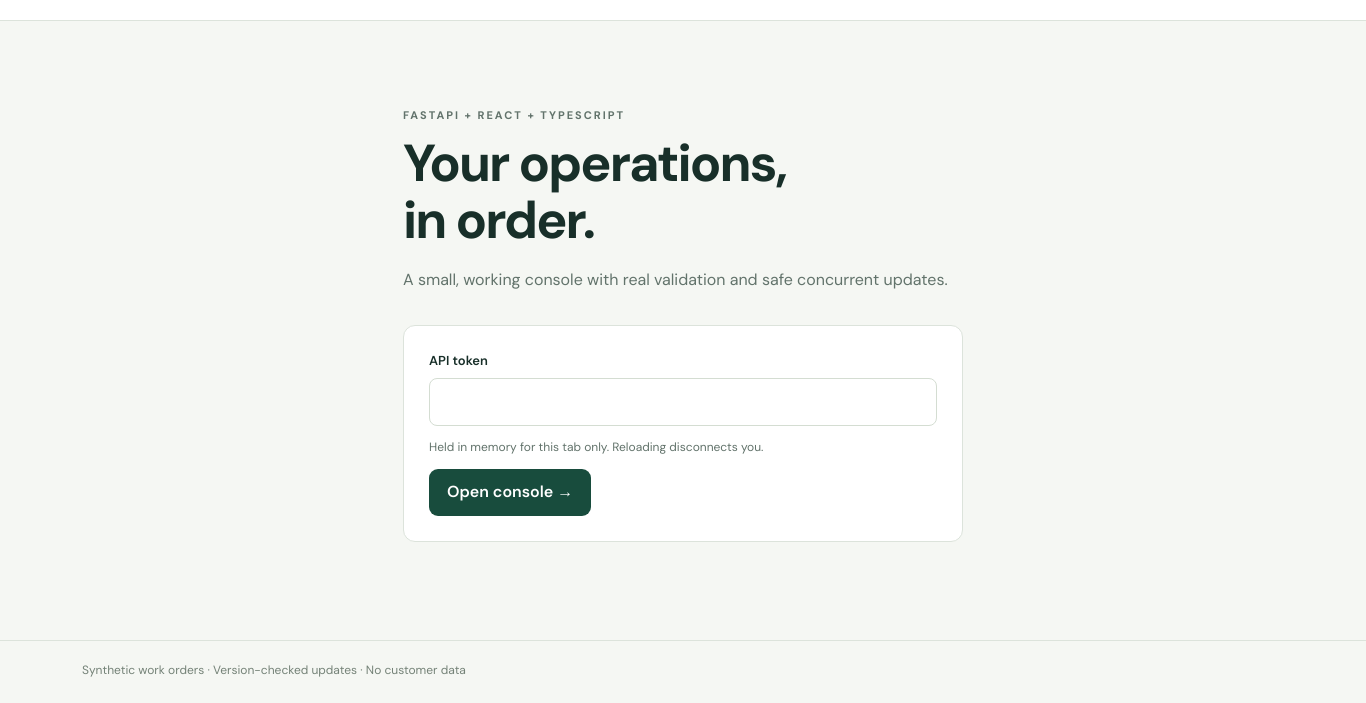
409 requires reload and sends the new version only after another explicit save
Step 1. Type "test-only-token" into the password field labelled "API token" → (683, 402), box [429,378,937,426]
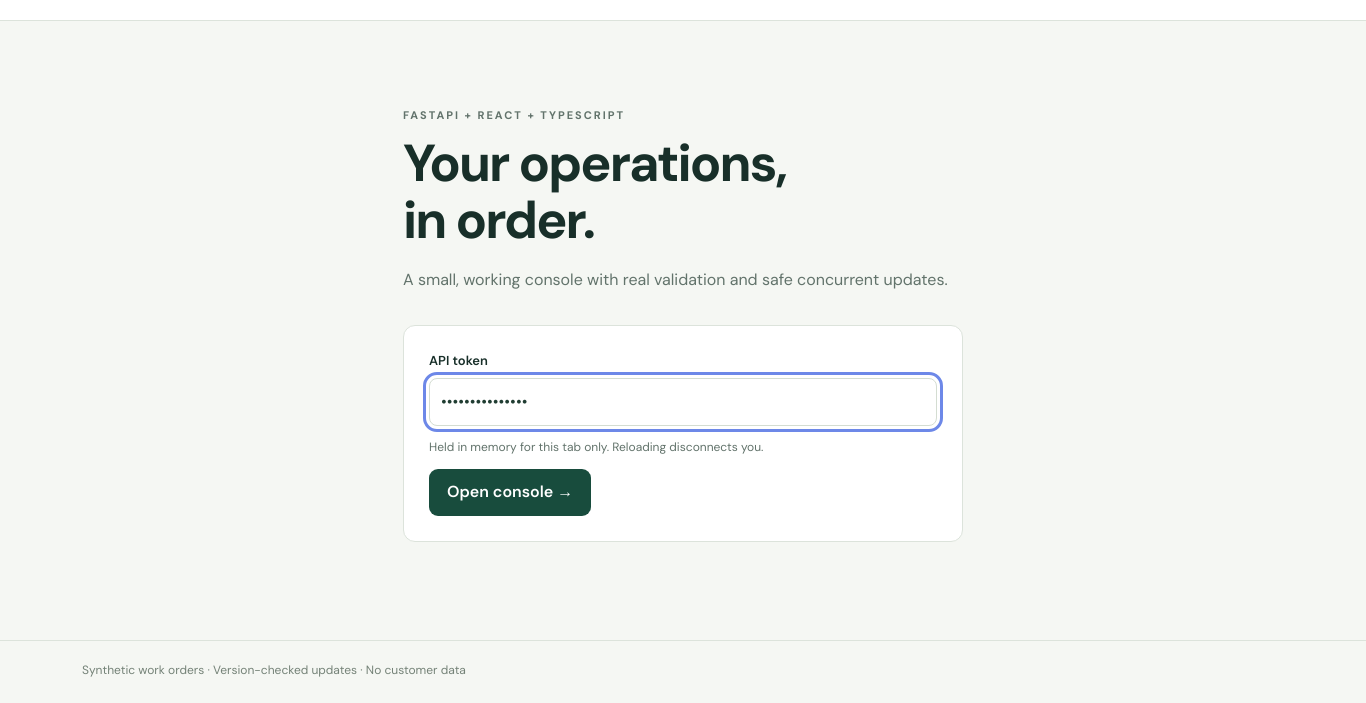
Step 2. Click the button "Open console →" → (510, 492), box [429,469,591,516]
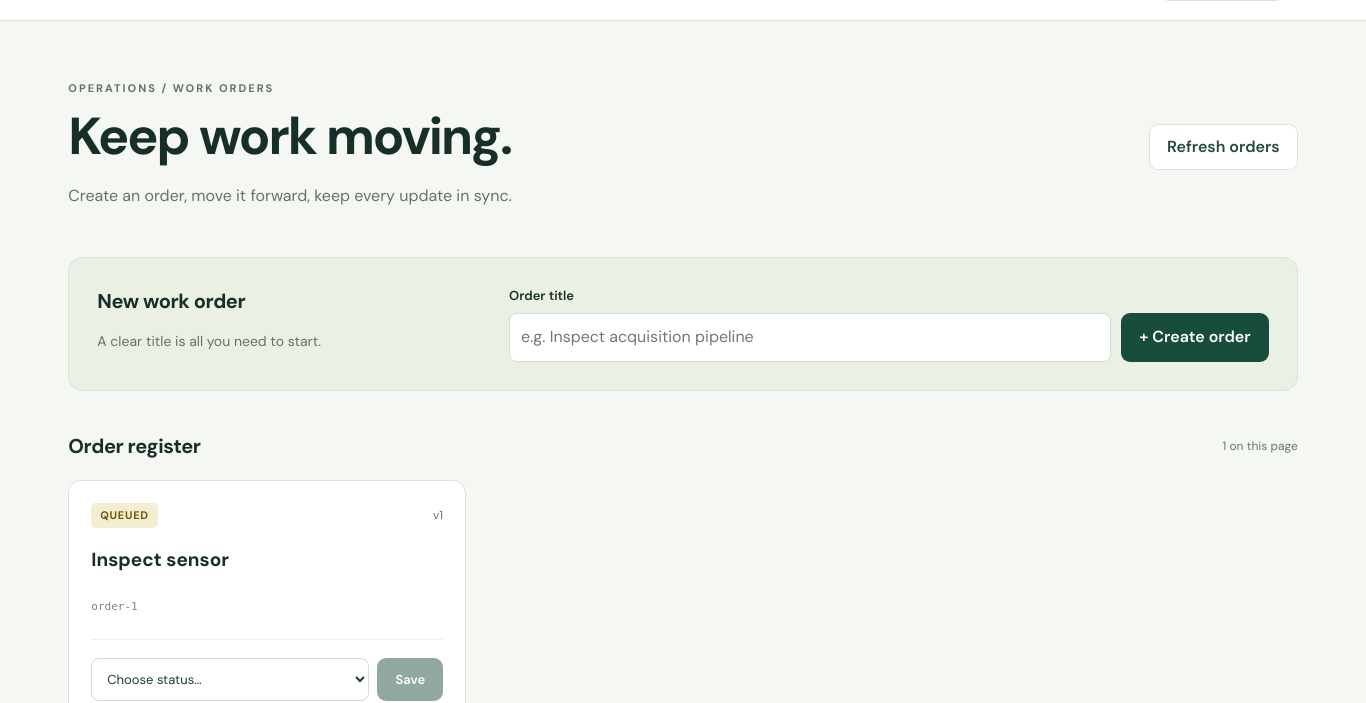
Now the heading "Order register" is shown, box [68,431,201,462]
Step 3. Select "cancelled" in the dropdown named "Next status for Inspect sensor" → (230, 680), box [91,658,370,701]
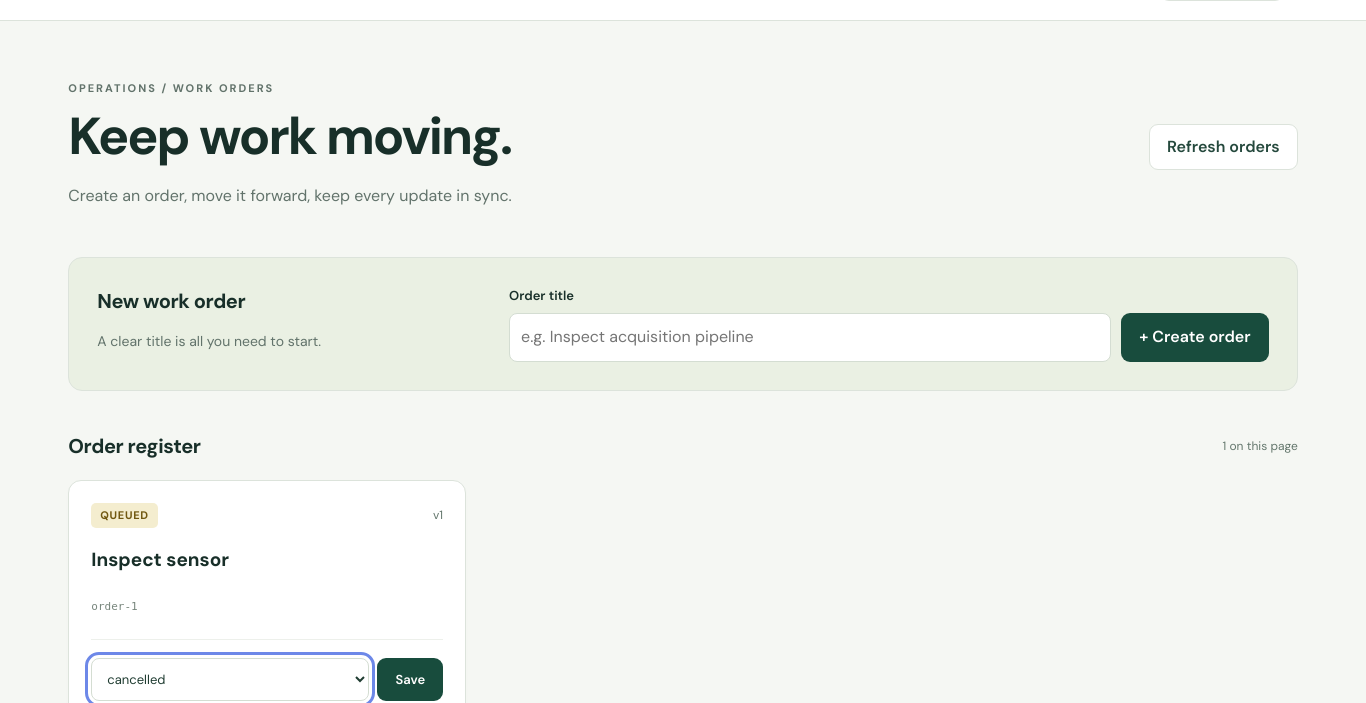
Step 4. Click the button "Save" → (410, 680), box [378,658,443,701]
(page scrolled)
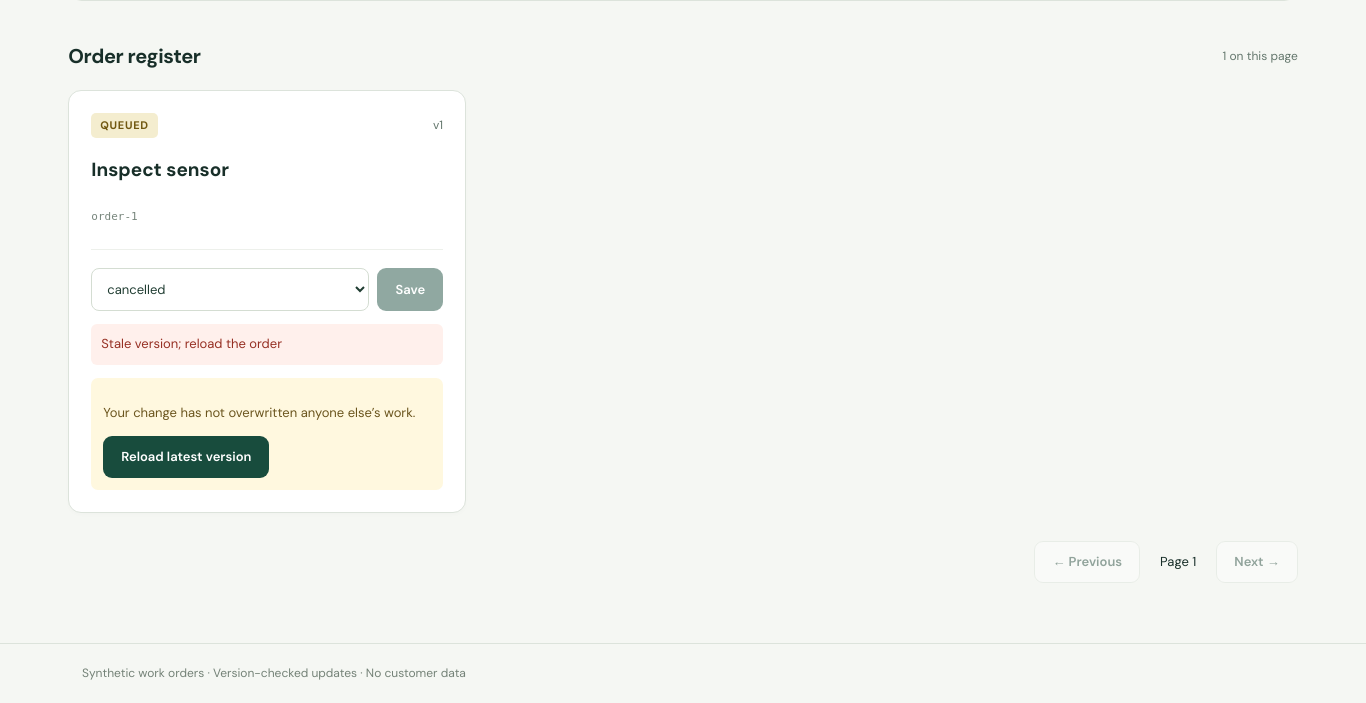
Now the button "Reload latest version" is shown
Now the button "Save" is disabled, box [378,268,443,311]
Step 5. Click the button "Reload latest version" → (186, 457), box [103,436,270,478]
(page scrolled)
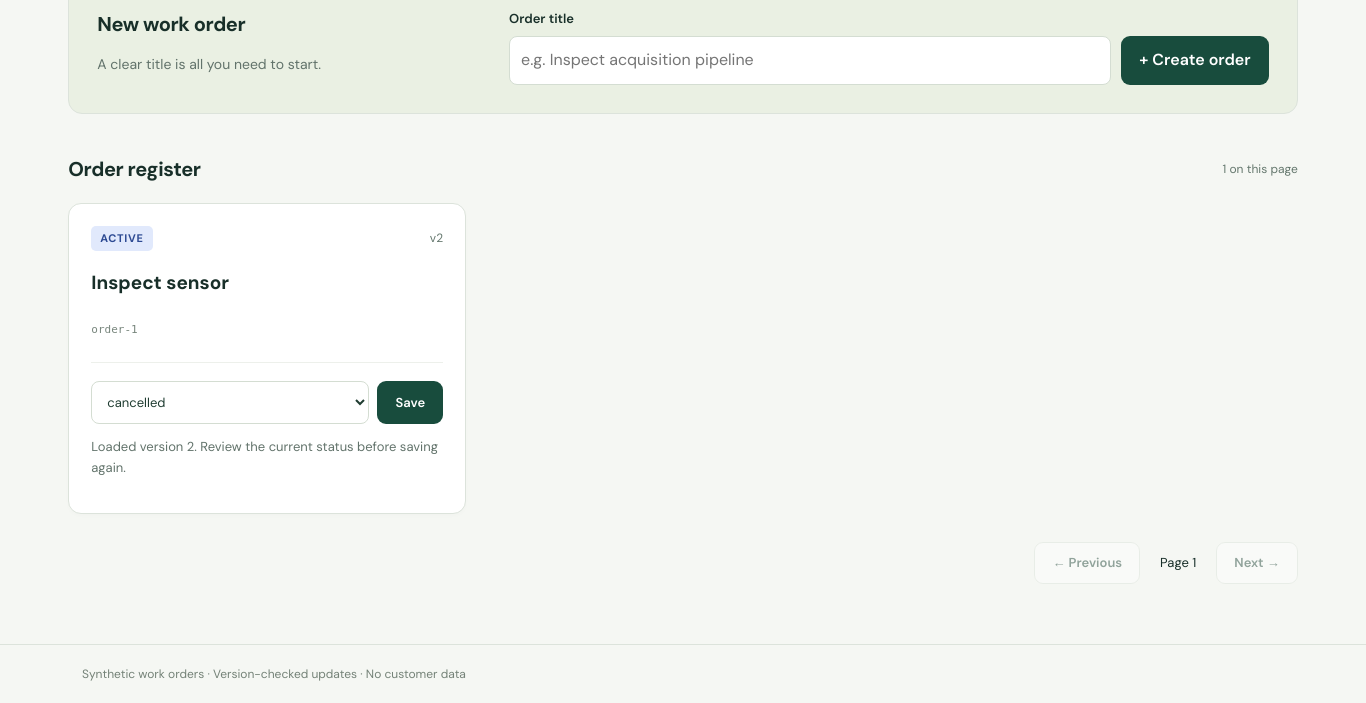
Now the text "Loaded version 2. Review the current status before saving again." is shown, box [91,437,443,478]
Step 6. Click the button "Save" → (410, 403), box [378,381,443,424]
(page scrolled)
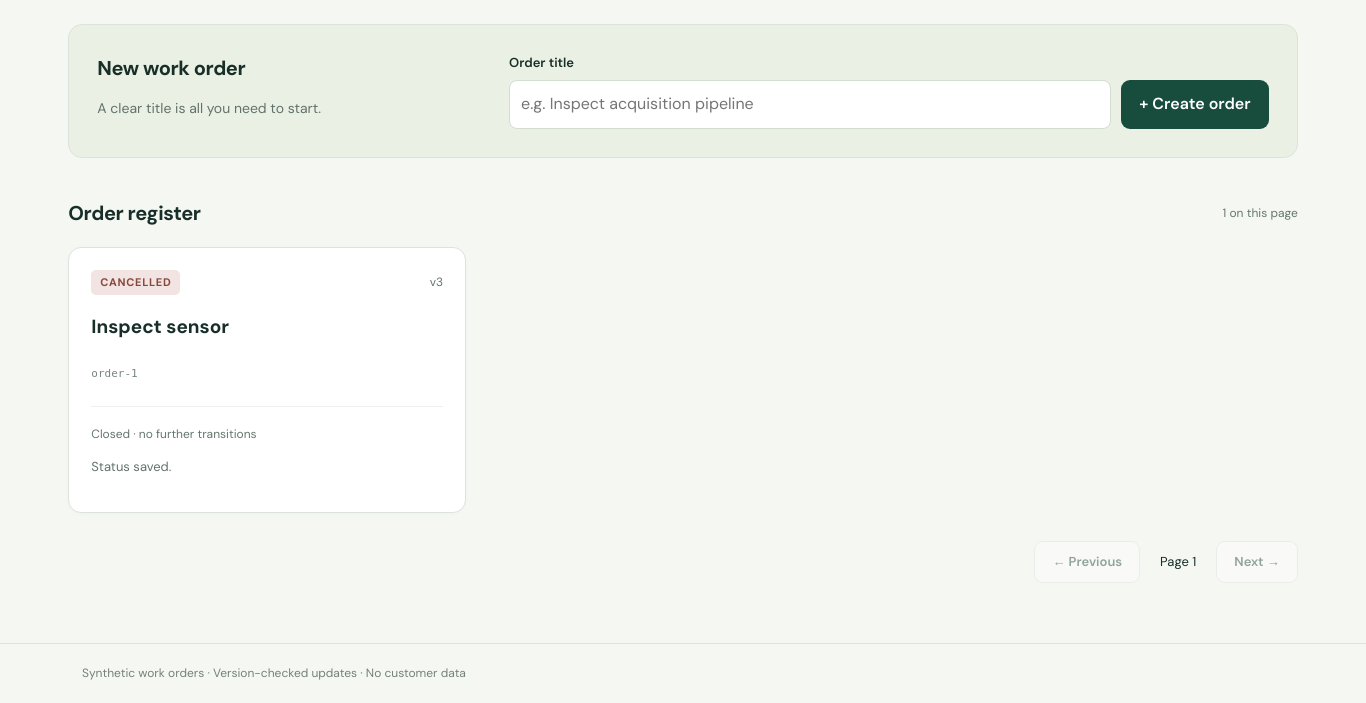
Now the text "Status saved." is shown, box [91,458,171,475]
Now the text "Closed · no further transitions" is shown, box [91,425,257,444]
